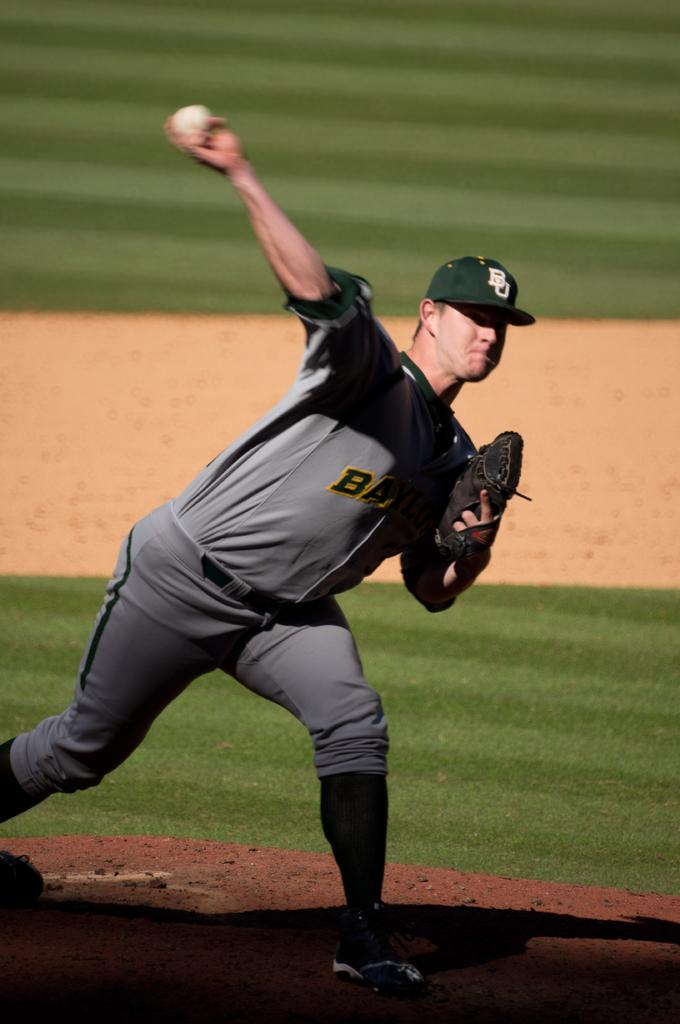Hat: (419, 254, 536, 325)
